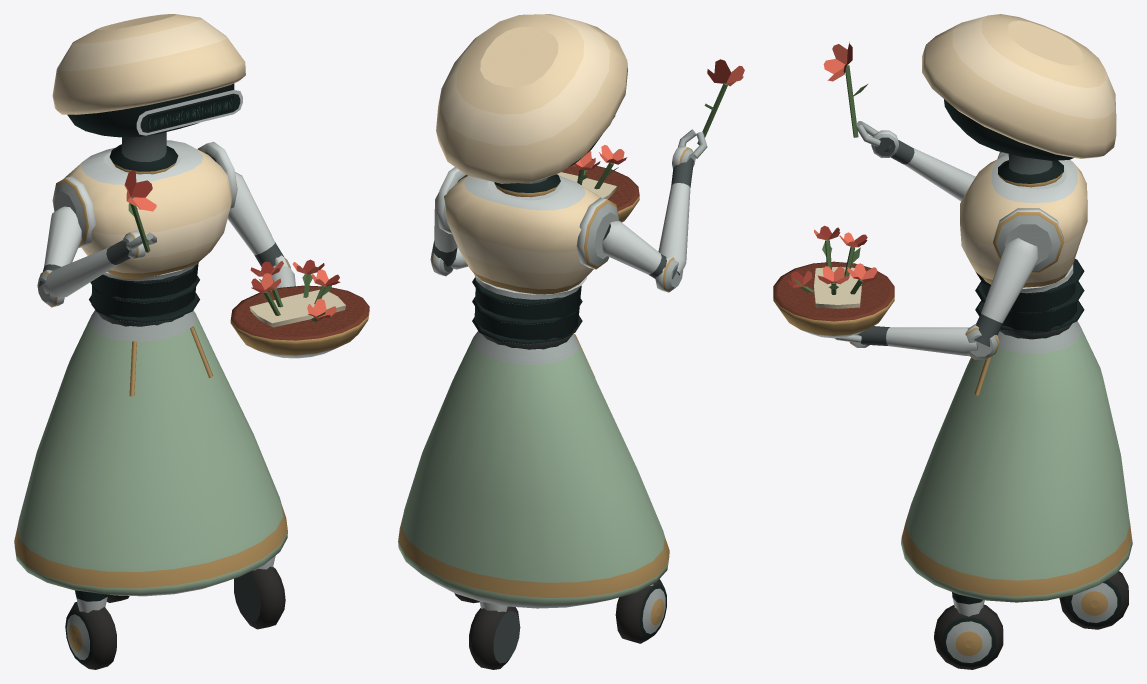
The model's file is Clerk-L1.fbx.
3 renders of one model, left to right at view 1: azimuth 30°, elevation 25°; view 2: azimuth 150°, elevation 25°; view 3: azimuth 270°, elevation 25°, orthographic.
Parts seen in each view (by area): view 1: Clerk_Body, Clerk_Head, Clerk_Bowl, Clerk_Caster0, Clerk_PickFore, Clerk_Caster1, Clerk_BowlUpper, Clerk_Flowers, Clerk_PickUpper, Clerk_Papers, Clerk_Head_Face, Clerk_Stem (+1 smaller); view 2: Clerk_Body, Clerk_Head, Clerk_PickFore, Clerk_Caster2, Clerk_Caster0, Clerk_PickUpper, Clerk_Bowl, Clerk_Stem, Clerk_Flowers, Clerk_BowlUpper, Clerk_PickHand, Clerk_Papers (+1 smaller); view 3: Clerk_Body, Clerk_Head, Clerk_Bowl, Clerk_Caster1, Clerk_BowlFore, Clerk_BowlUpper, Clerk_Caster2, Clerk_Flowers, Clerk_PickFore, Clerk_Papers, Clerk_Stem, Clerk_PickHand.
Boxes of the visible parts, x1,y1,x2,y2 form: Clerk_Body: [14, 132, 287, 612]; Clerk_Head: [52, 14, 245, 137]; Clerk_Bowl: [230, 285, 369, 358]; Clerk_Caster0: [65, 602, 116, 669]; Clerk_PickFore: [37, 240, 130, 307]; Clerk_Caster1: [234, 566, 285, 629]; Clerk_BowlUpper: [227, 172, 283, 266]; Clerk_Flowers: [250, 259, 340, 321]; Clerk_PickUpper: [38, 206, 81, 286]; Clerk_Papers: [249, 289, 345, 327]; Clerk_Head_Face: [148, 95, 233, 131]; Clerk_Stem: [124, 170, 156, 252]; Clerk_Body: [398, 167, 669, 611]; Clerk_Head: [436, 14, 627, 183]; Clerk_PickFore: [655, 157, 693, 292]; Clerk_Caster2: [469, 606, 520, 669]; Clerk_Caster0: [615, 579, 666, 643]; Clerk_PickUpper: [602, 221, 677, 278]; Clerk_Bowl: [561, 165, 639, 222]; Clerk_Stem: [697, 59, 744, 145]; Clerk_Flowers: [573, 145, 627, 189]; Clerk_BowlUpper: [432, 192, 457, 266]; Clerk_PickHand: [672, 129, 707, 169]; Clerk_Papers: [557, 172, 616, 199]; Clerk_Body: [901, 152, 1132, 616]; Clerk_Head: [922, 14, 1116, 160]; Clerk_Bowl: [773, 261, 894, 338]; Clerk_Caster1: [934, 604, 1003, 669]; Clerk_BowlFore: [857, 324, 999, 359]; Clerk_BowlUpper: [974, 238, 1038, 346]; Clerk_Caster2: [1059, 571, 1128, 629]; Clerk_Flowers: [787, 225, 877, 294]; Clerk_PickFore: [884, 140, 975, 201]; Clerk_Papers: [814, 267, 861, 308]; Clerk_Stem: [823, 42, 867, 137]; Clerk_PickHand: [856, 121, 898, 157].
Size of the model in its own units: 0.7228 by 1.68 by 0.9106.
2 materials, 2 textured.
